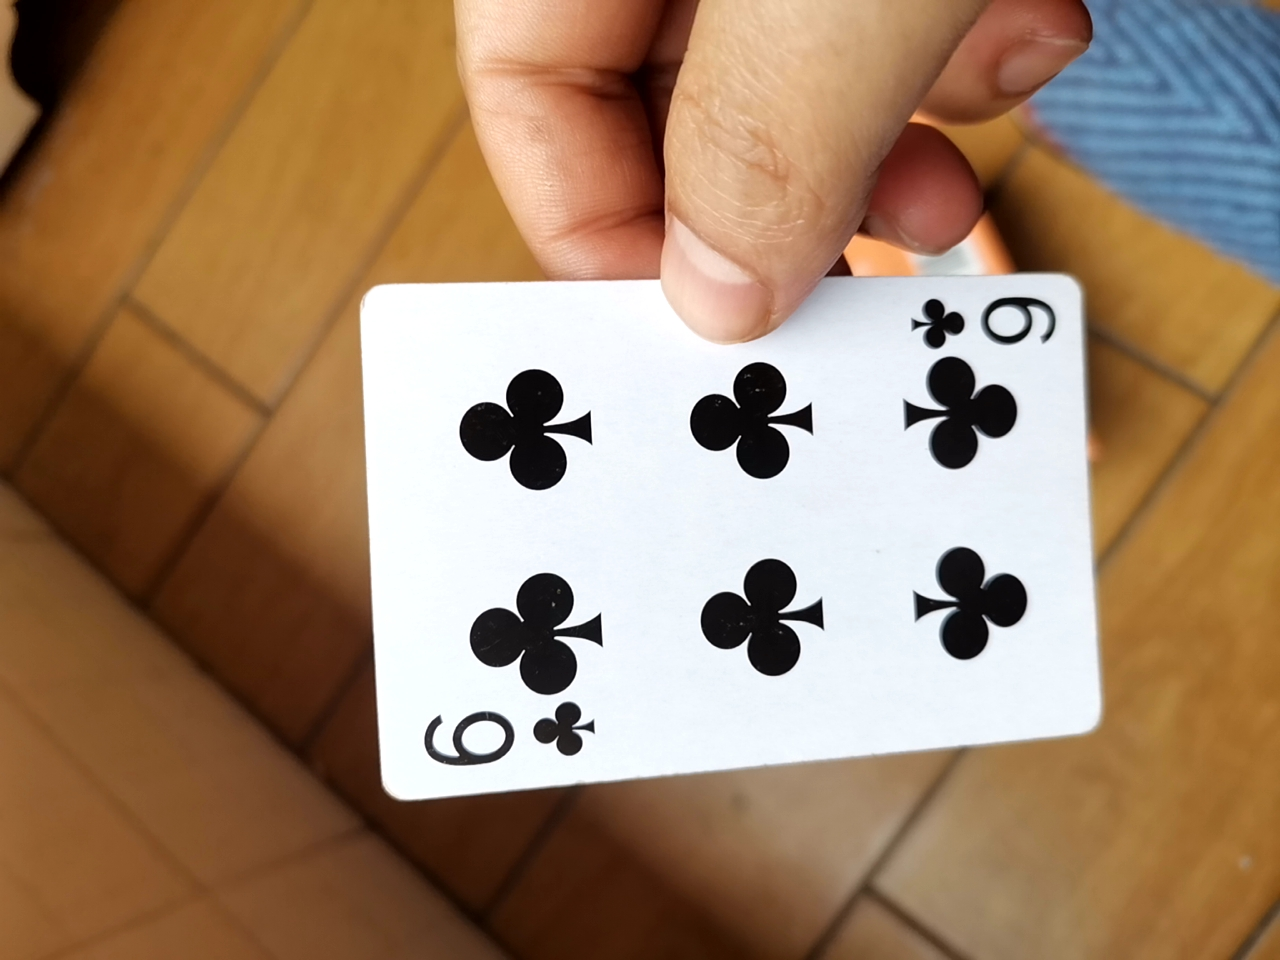mh 6: (340, 260, 1104, 815)
